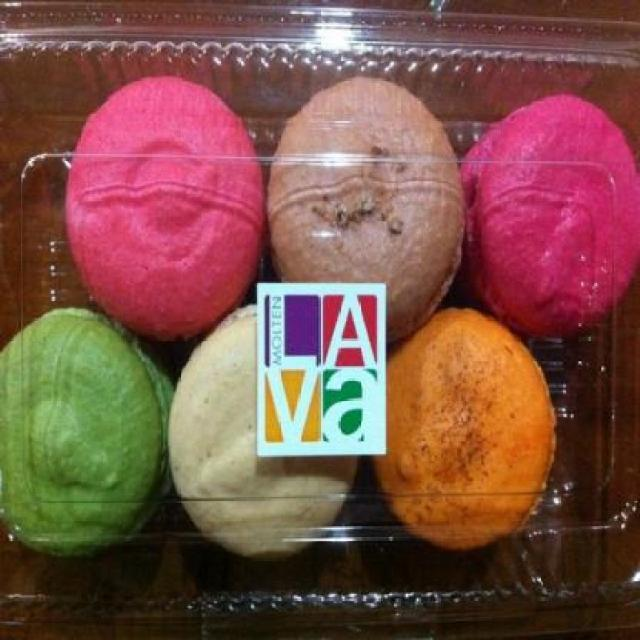Macaron: (6, 66, 640, 554)
